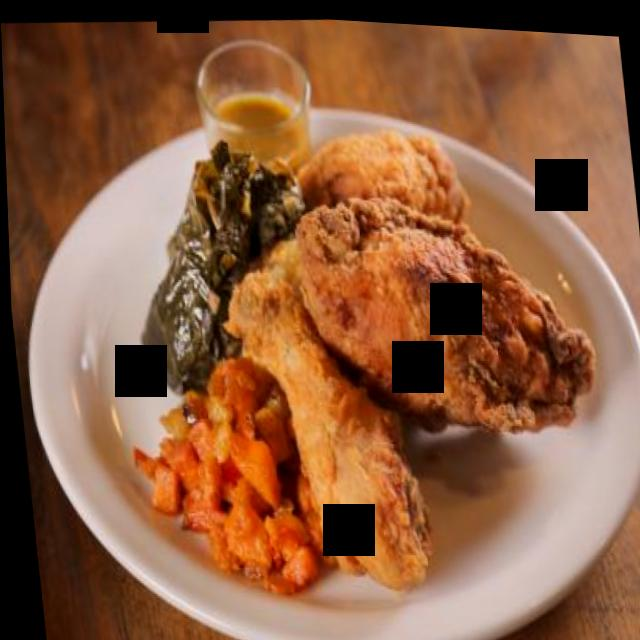Frango: (198, 94, 617, 610)
